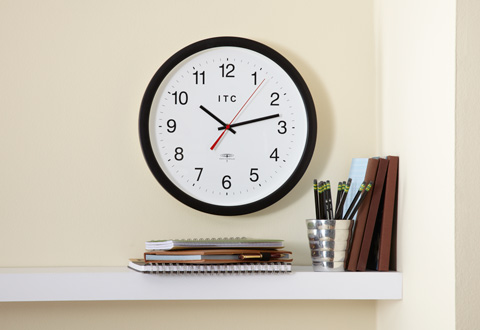clock: (149, 47, 308, 208)
